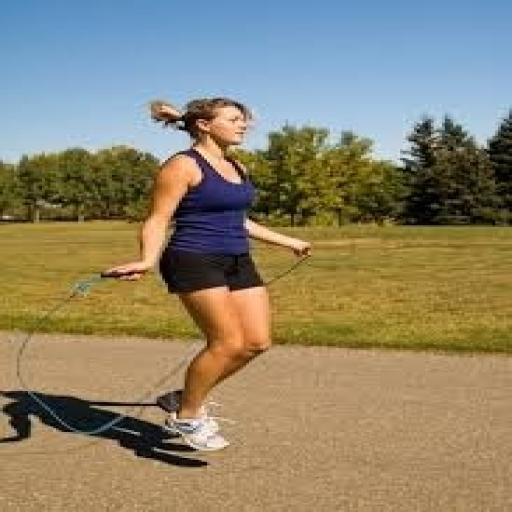running: (101, 95, 316, 452)
